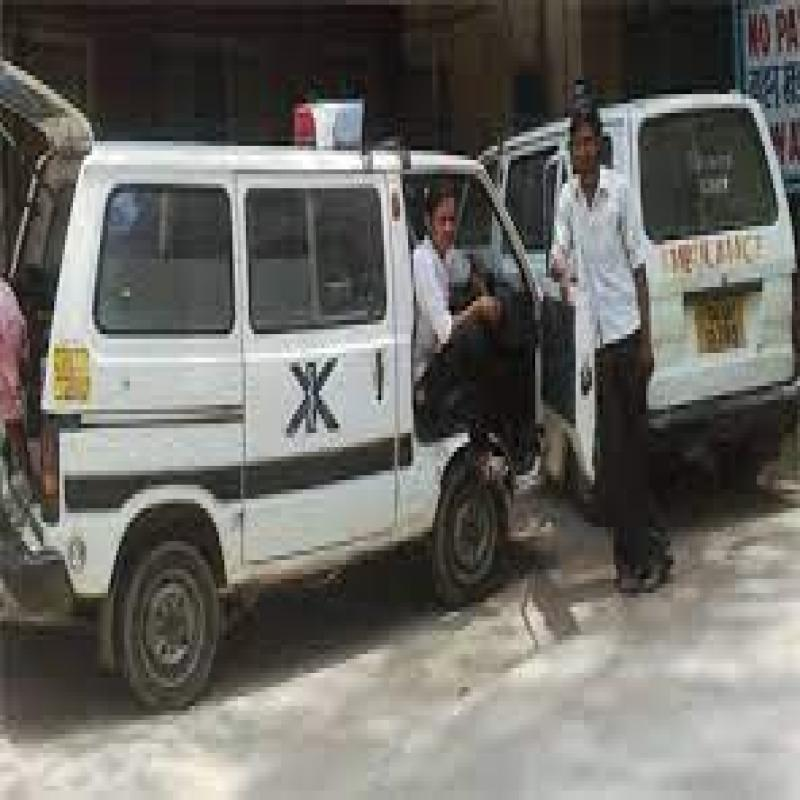ambulance: (8, 68, 587, 722)
